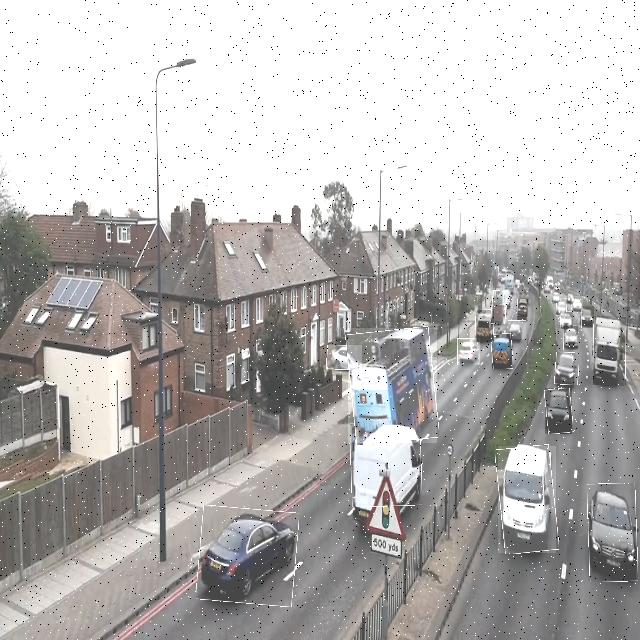Bus: (348, 328, 437, 443)
Car: (198, 507, 298, 605), (588, 483, 638, 582), (545, 388, 572, 434), (327, 345, 362, 370), (554, 353, 578, 385), (457, 338, 480, 365), (563, 325, 578, 350), (508, 320, 526, 339), (581, 306, 594, 328), (560, 311, 573, 328), (517, 300, 528, 318), (557, 298, 567, 316), (571, 296, 583, 310), (551, 291, 561, 303)
Truck: (498, 446, 556, 553), (351, 421, 422, 507), (593, 316, 626, 386), (492, 334, 512, 369), (476, 309, 494, 342), (492, 291, 506, 324)
